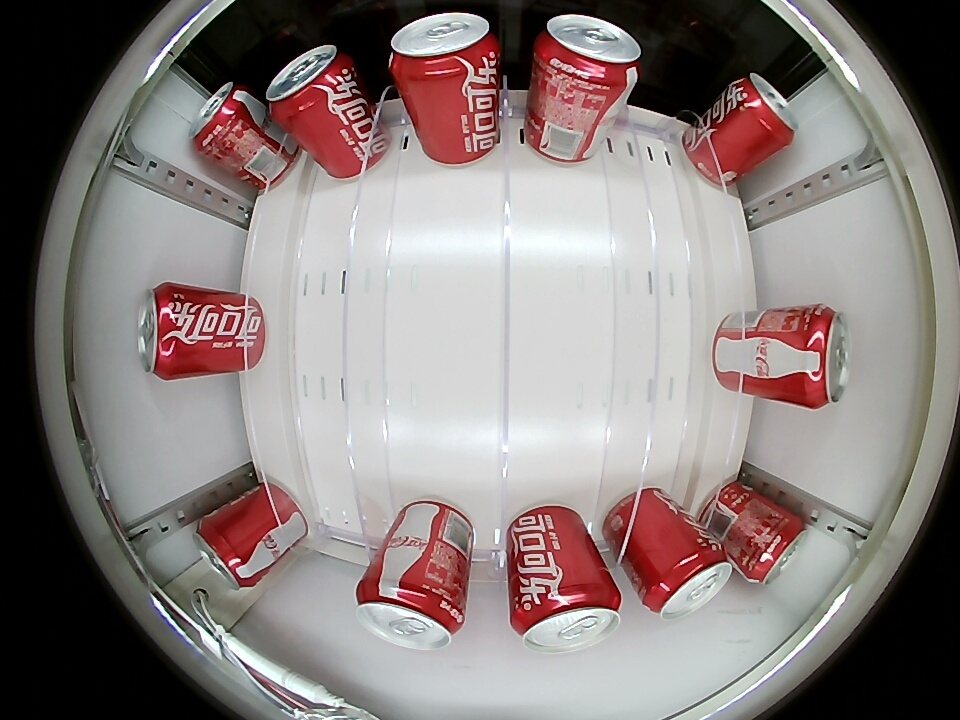kele: (389, 13, 498, 85), (513, 582, 622, 653), (356, 579, 465, 650), (536, 14, 642, 87), (641, 543, 732, 620), (266, 45, 356, 119), (792, 306, 850, 408), (139, 283, 197, 379), (731, 74, 798, 150), (194, 513, 260, 590), (743, 508, 808, 585), (189, 81, 250, 158)
